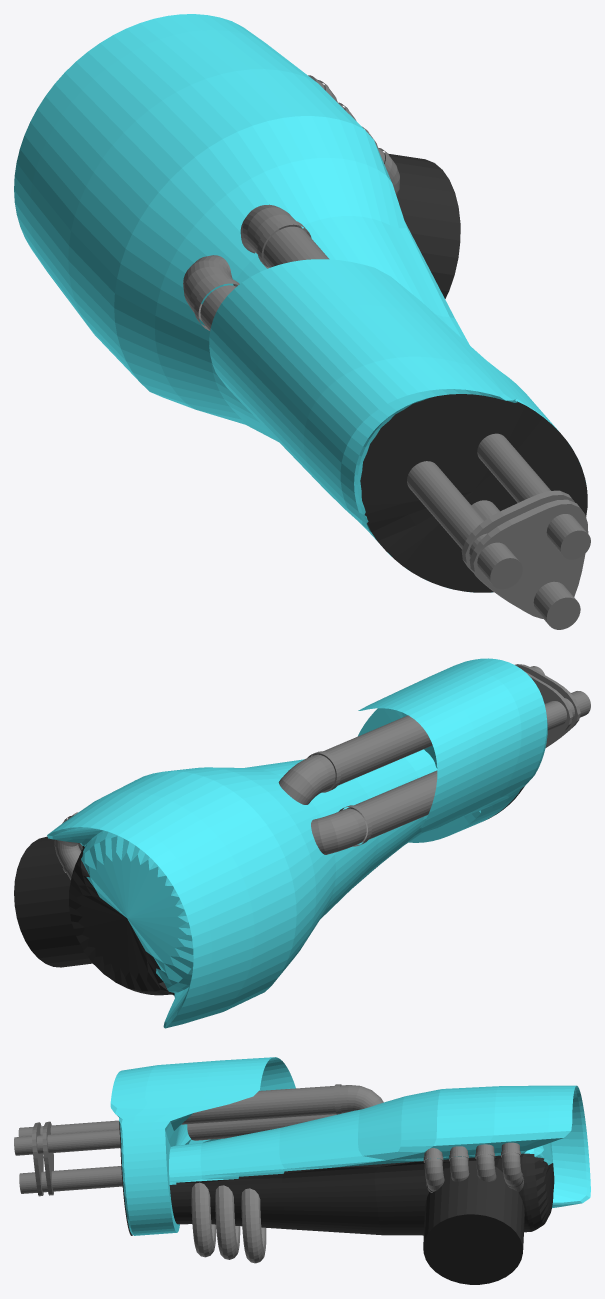
File: MissileShip_Arms_UpperL.fbx
3 views of the same model, one above another, from view 1: azimuth 30°, elevation 25°; view 2: azimuth 150°, elevation 25°; view 3: azimuth 270°, elevation 25° (orthographic). The views are drawn at different scales.
Visible parts, largest first — view 1: Cylinder.032, Cylinder.000, Cylinder.037, Cylinder.036, Cylinder.033, Cylinder.035; view 2: Cylinder.032, Cylinder.000, Cylinder.033, Cylinder.035, Cylinder.038, Cylinder.036; view 3: Cylinder.032, Cylinder.038, Cylinder.000, Cylinder.035, Cylinder.033, Cylinder.036, Cylinder.034.
Boxes of the visible parts, left/top/right/bottom form: Cylinder.032: left=14, top=14, right=469, bottom=441; Cylinder.000: left=209, top=259, right=586, bottom=592; Cylinder.037: left=360, top=394, right=587, bottom=592; Cylinder.036: left=407, top=433, right=590, bottom=629; Cylinder.033: left=183, top=75, right=399, bottom=330; Cylinder.035: left=388, top=153, right=460, bottom=298; Cylinder.032: left=47, top=749, right=437, bottom=1028; Cylinder.000: left=357, top=658, right=547, bottom=842; Cylinder.033: left=54, top=715, right=437, bottom=879; Cylinder.035: left=14, top=836, right=92, bottom=967; Cylinder.038: left=69, top=846, right=377, bottom=995; Cylinder.036: left=515, top=664, right=590, bottom=748; Cylinder.032: left=169, top=1085, right=590, bottom=1207; Cylinder.038: left=169, top=1153, right=554, bottom=1235; Cylinder.000: left=110, top=1057, right=295, bottom=1235; Cylinder.035: left=423, top=1161, right=524, bottom=1284; Cylinder.033: left=181, top=1084, right=523, bottom=1192; Cylinder.036: left=14, top=1120, right=122, bottom=1196; Cylinder.034: left=191, top=1182, right=266, bottom=1263.
Size of the model in its own units: 105 by 70.97 by 236.
